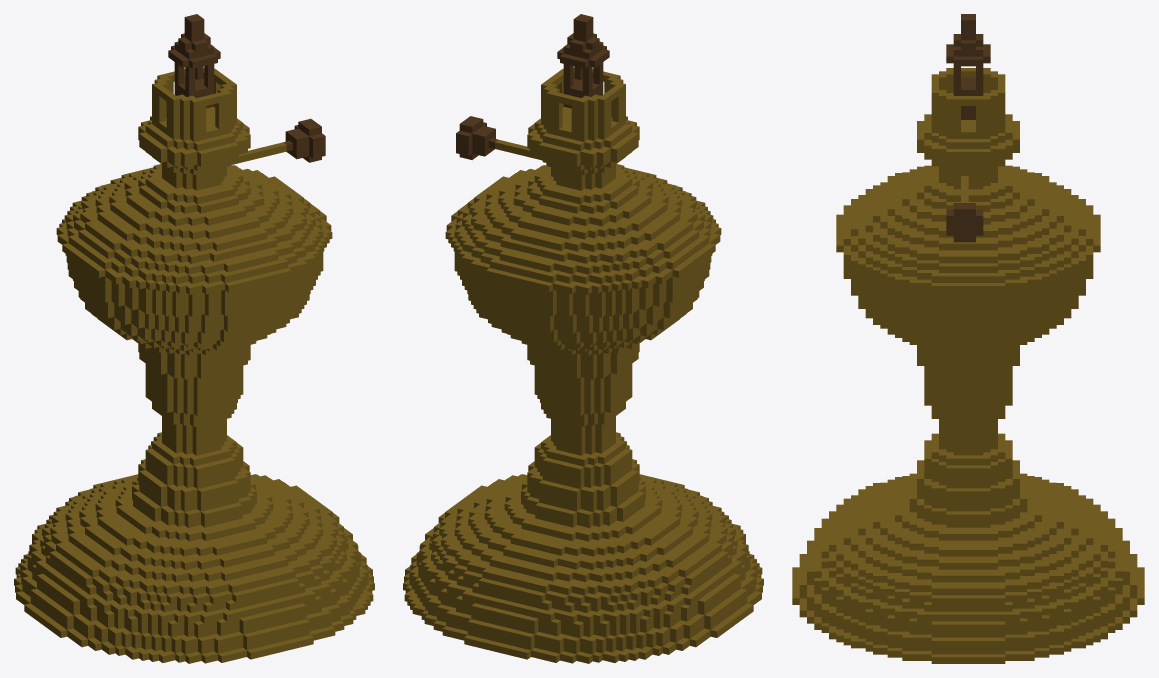
File: Lampe_huile-1.obj
The picture shows the model from 3 angles, left to right: view 1: azimuth 30°, elevation 25°; view 2: azimuth 150°, elevation 25°; view 3: azimuth 270°, elevation 25°; orthographic projection.
Bounding box in the file's own units: 4.8 × 8.6 × 4.8.
Materials: 1 (1 with a texture image).
